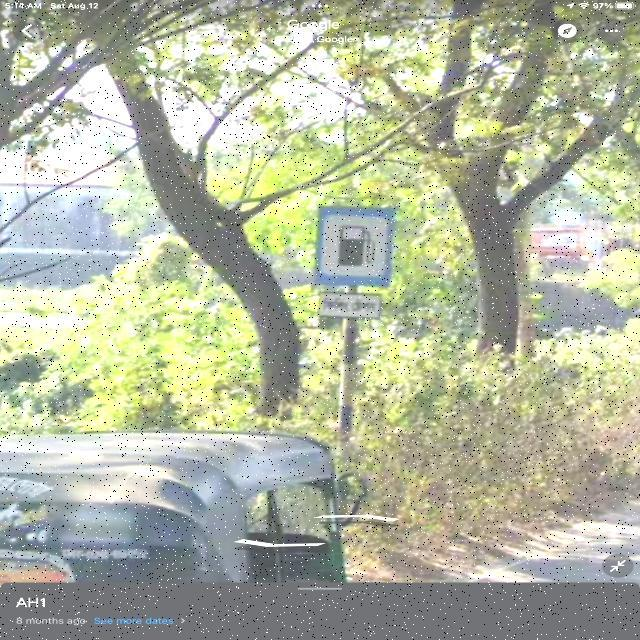Petrol-Station-in-front: (306, 194, 402, 337)
